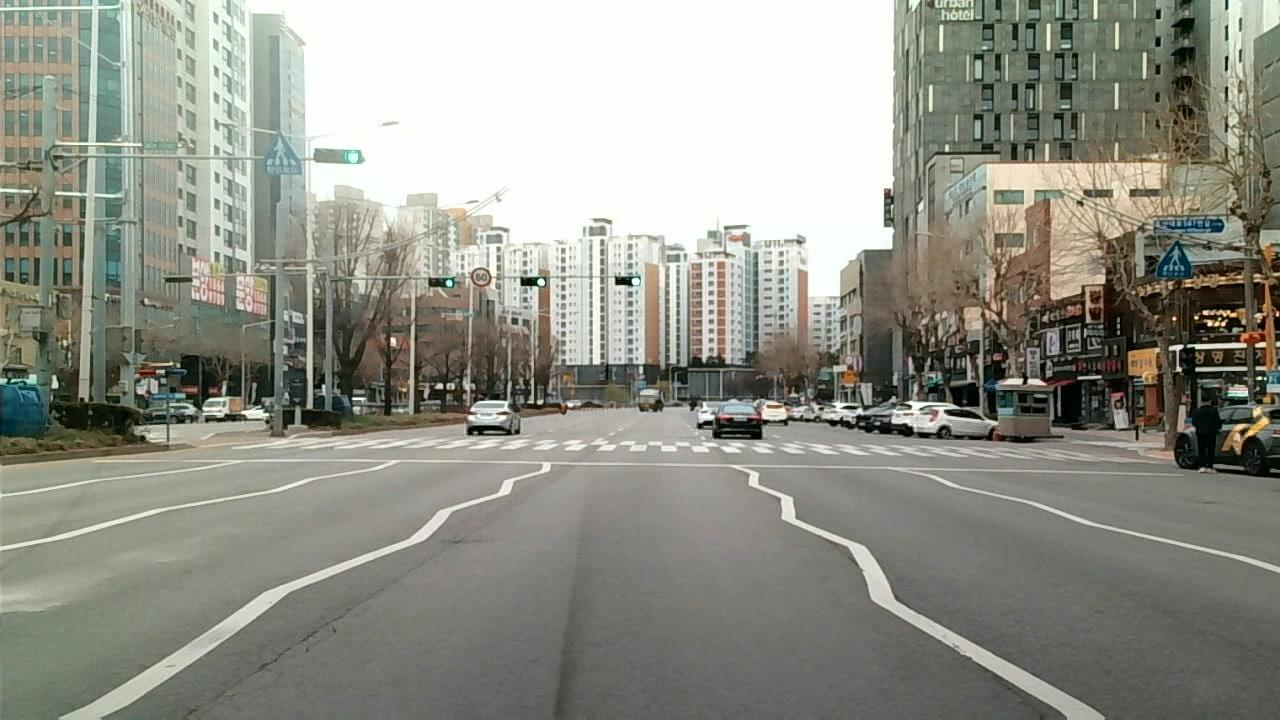vcrack: (288, 571, 406, 658), (168, 641, 290, 720), (992, 666, 1055, 720)
